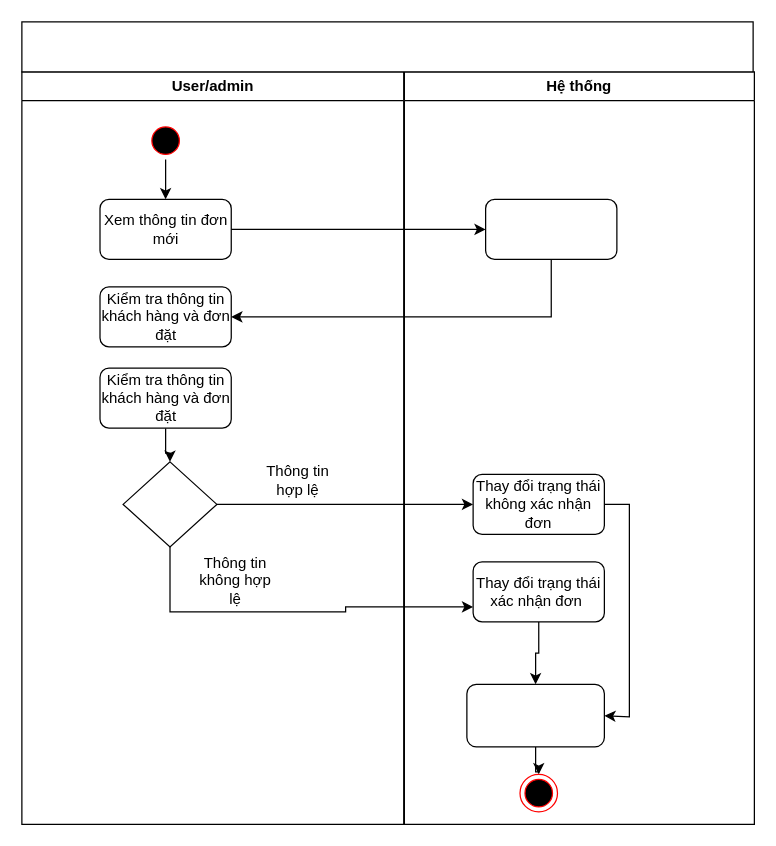
Some shapes in this 776 by 846 pixel diagram are drawn without their labels. The centre of each missing label's shape, as x and y in pixels:
"Chức năng quản lý đơn thuê" goes at pixel 387 46.
"Hiển thị thông báo thay đổi trạng thái đơn đặt thành công" goes at pixel 535 715.
"Hiển thị thông tin chỉ tiết đơn đặt" goes at pixel 550 228.
